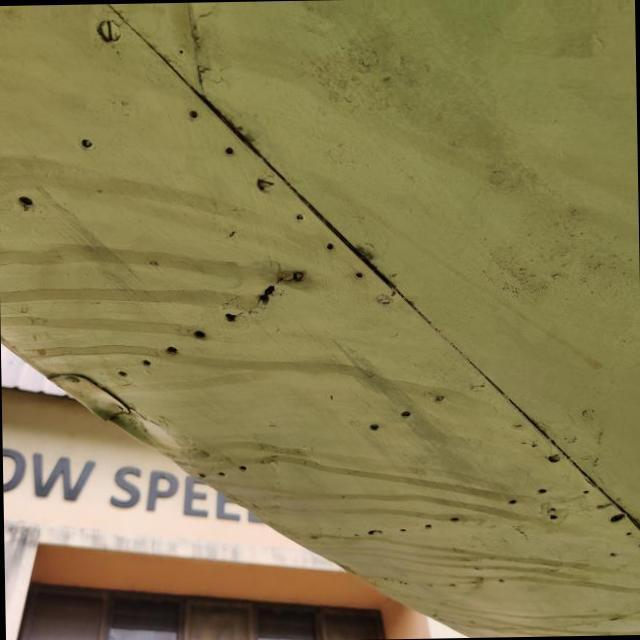Rupture: (244, 275, 288, 317)
